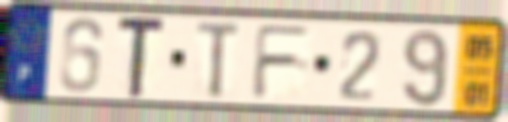2: (337, 28, 384, 103)
6: (57, 15, 105, 96)
9: (399, 26, 451, 109)
F: (249, 23, 316, 102)
T: (114, 14, 169, 101), (194, 19, 244, 101)
